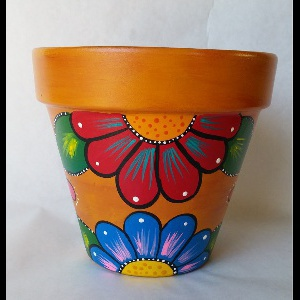flowerpot: (30, 44, 279, 278)
